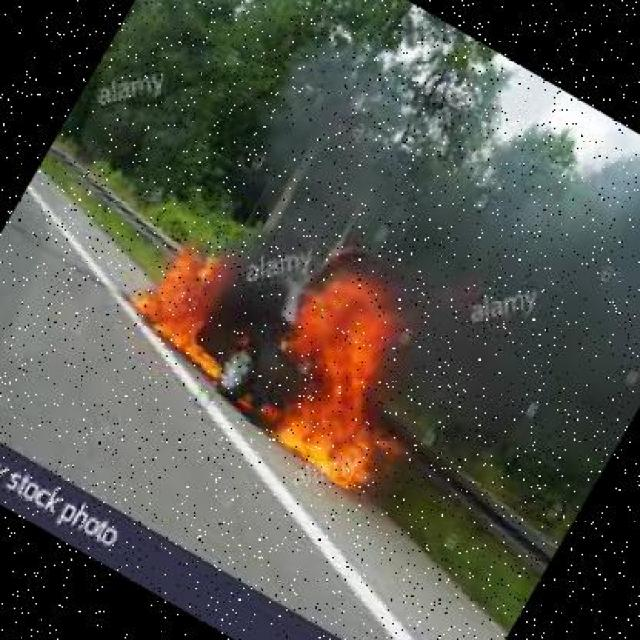fire: (105, 174, 468, 511)
